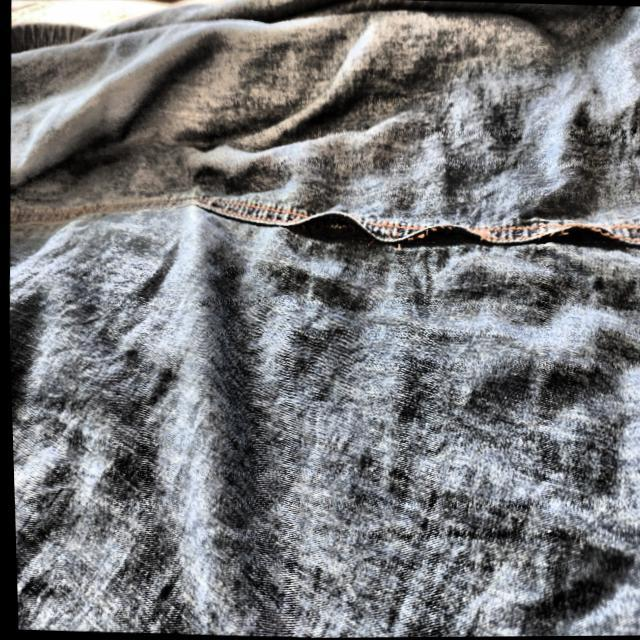hole: (279, 203, 380, 263), (392, 214, 498, 270), (524, 217, 640, 268)
seam: (9, 193, 277, 230), (498, 220, 524, 250), (381, 218, 395, 245)
